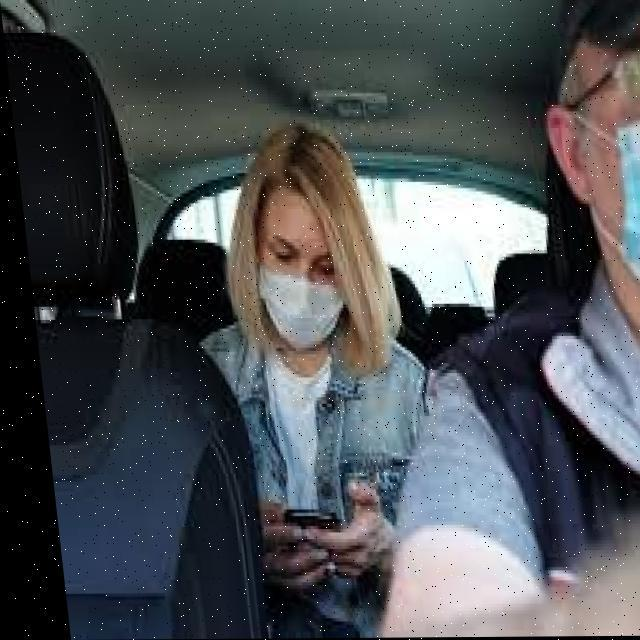noSeatbelt: (191, 296, 444, 622)
